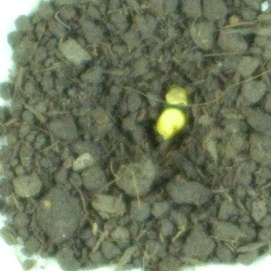chilli seed: (154, 106, 188, 142), (162, 83, 191, 108)
